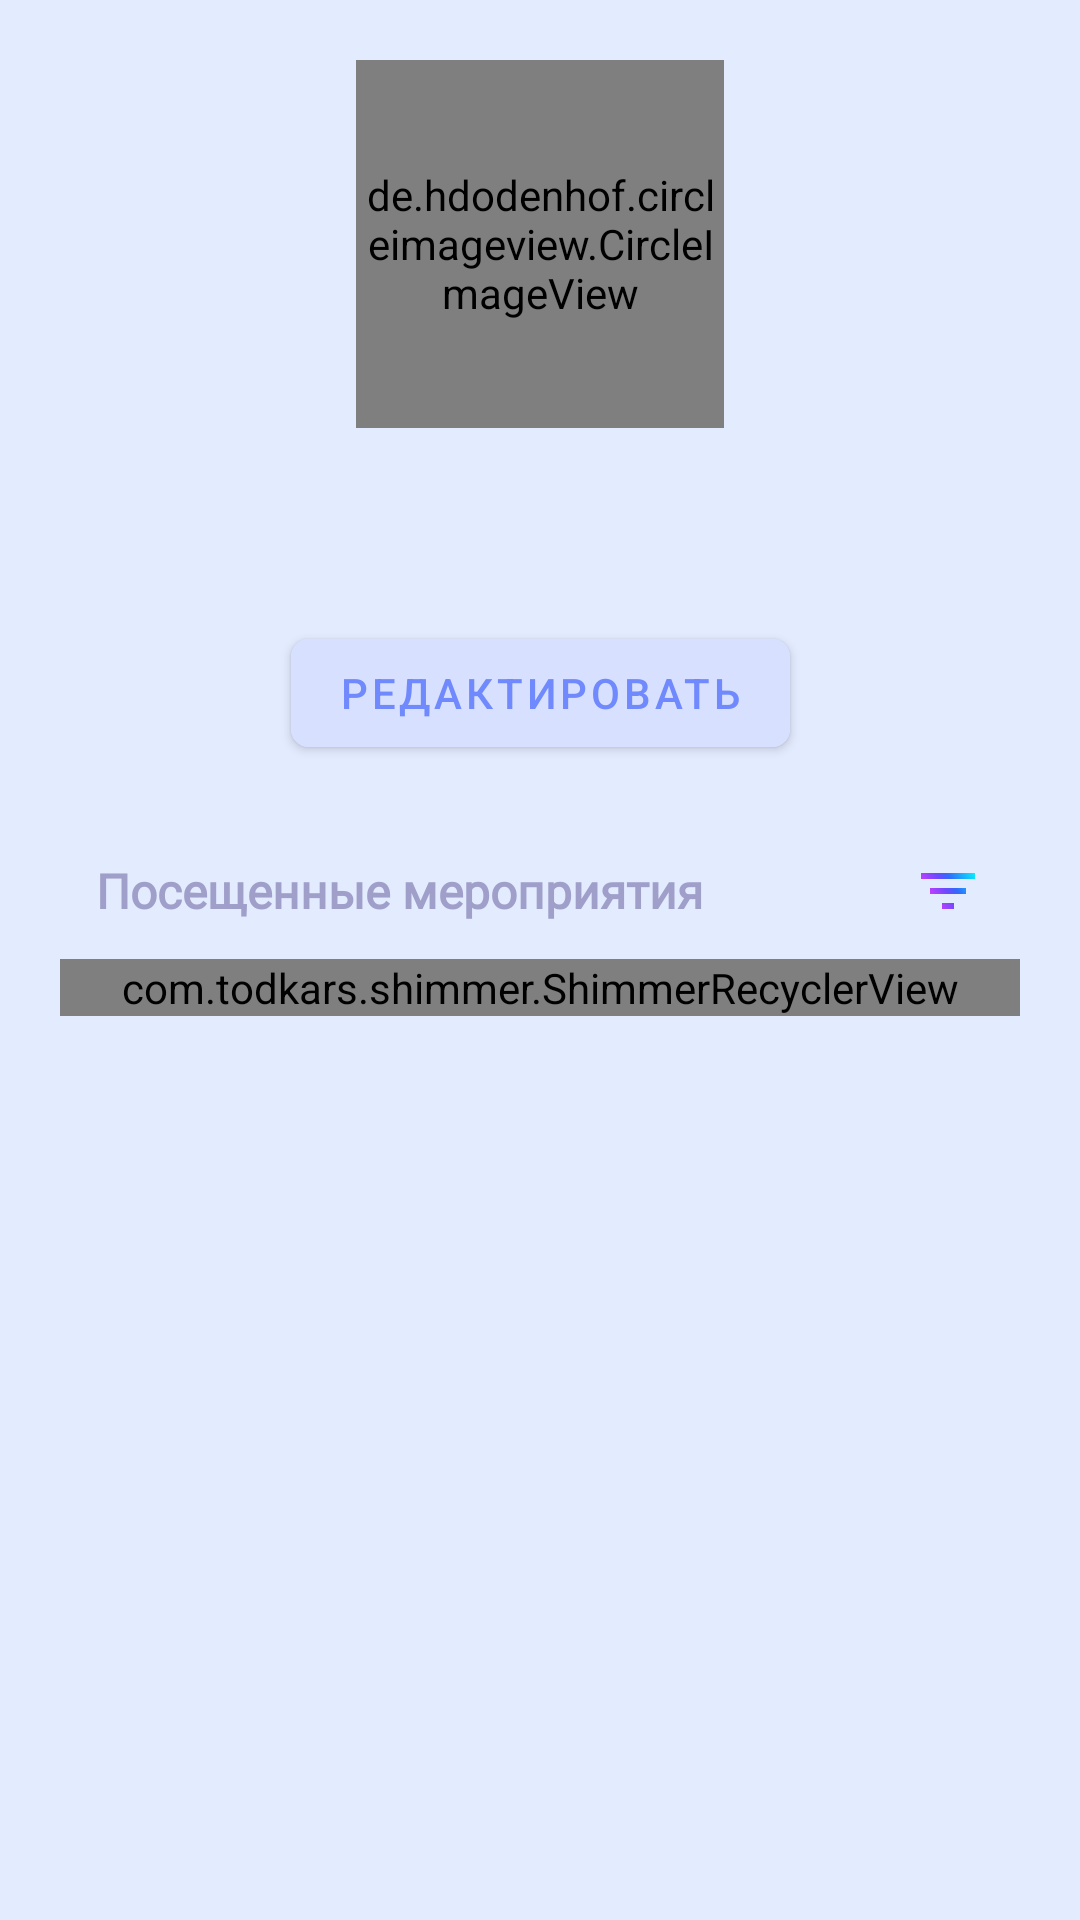

Named icons in this screenshot (1080w x 1920h) and their centers, (x,y):
filter: (948,891)
